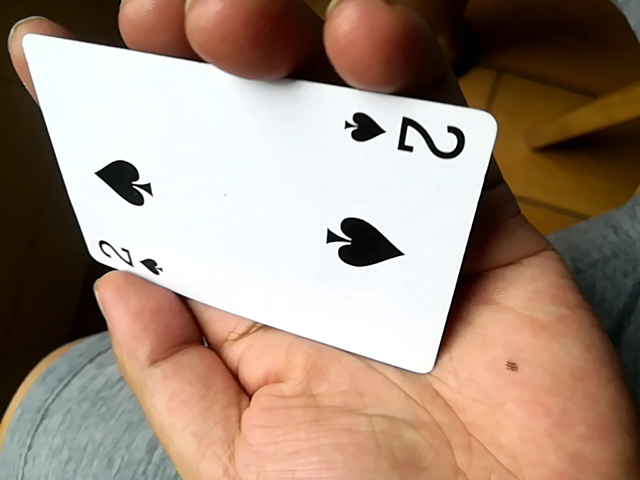ht 2: (26, 30, 501, 377)
